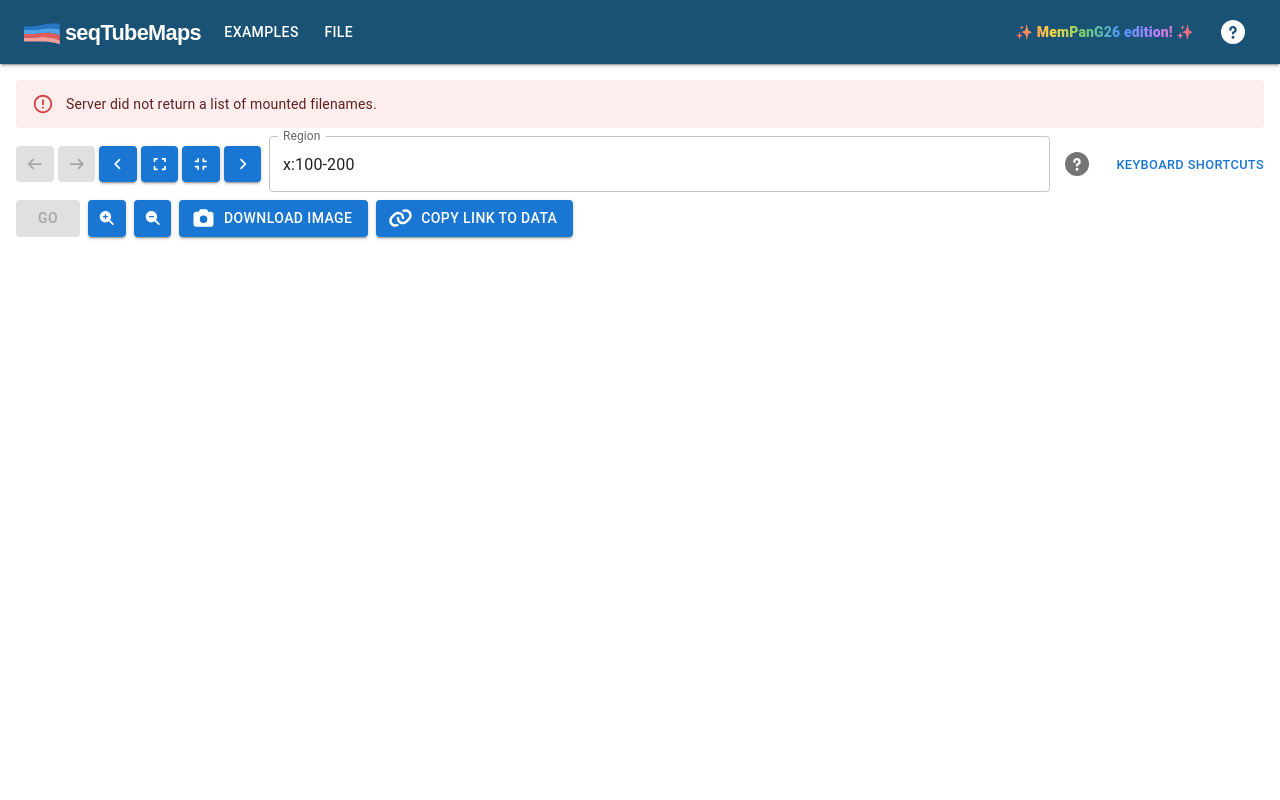
Test: Manage tracks › takes a changed track set as custom files, keeping the region
The image size is (1280, 800).
Expected: the button "Simplify" is not shown
Click the button with test id "fileMenuButton" at (339, 32), box [307,14,371,50]
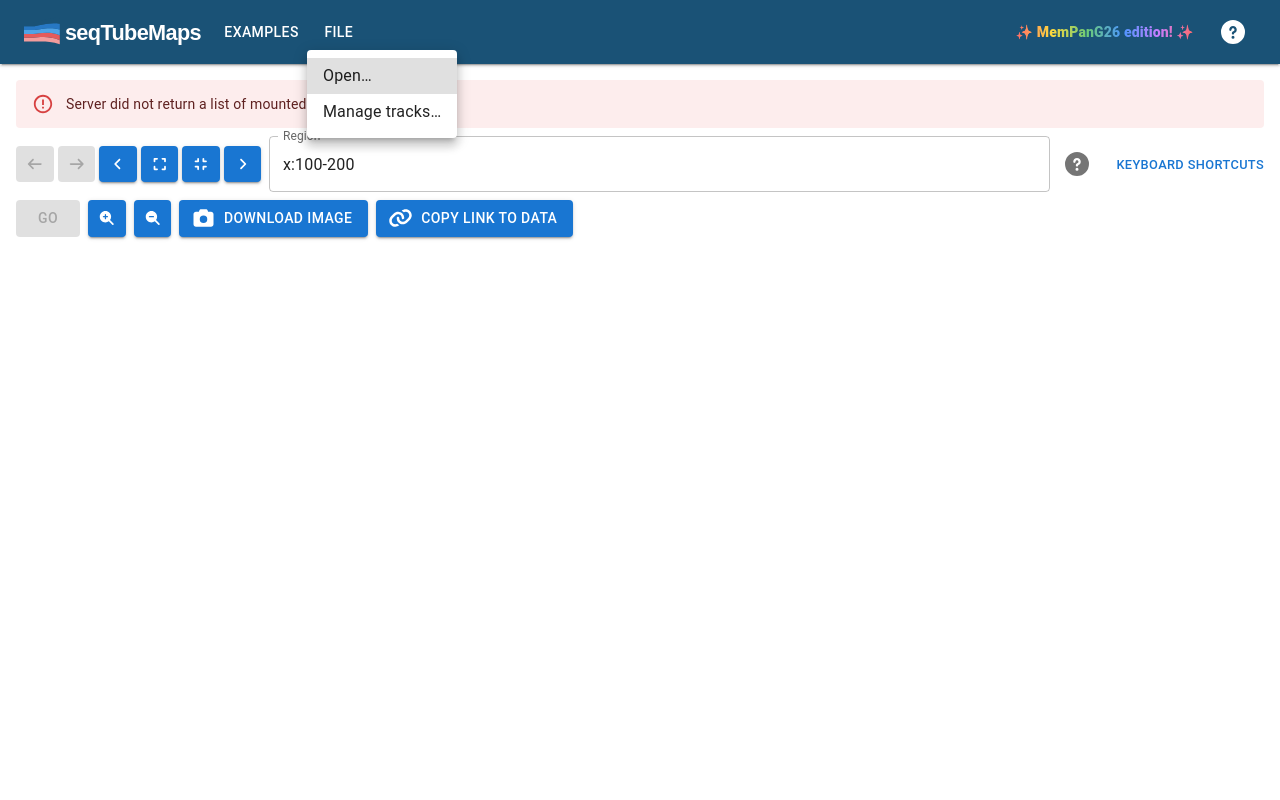
Click the menu item with test id "manageTracks" at (382, 112), box [323,102,441,121]
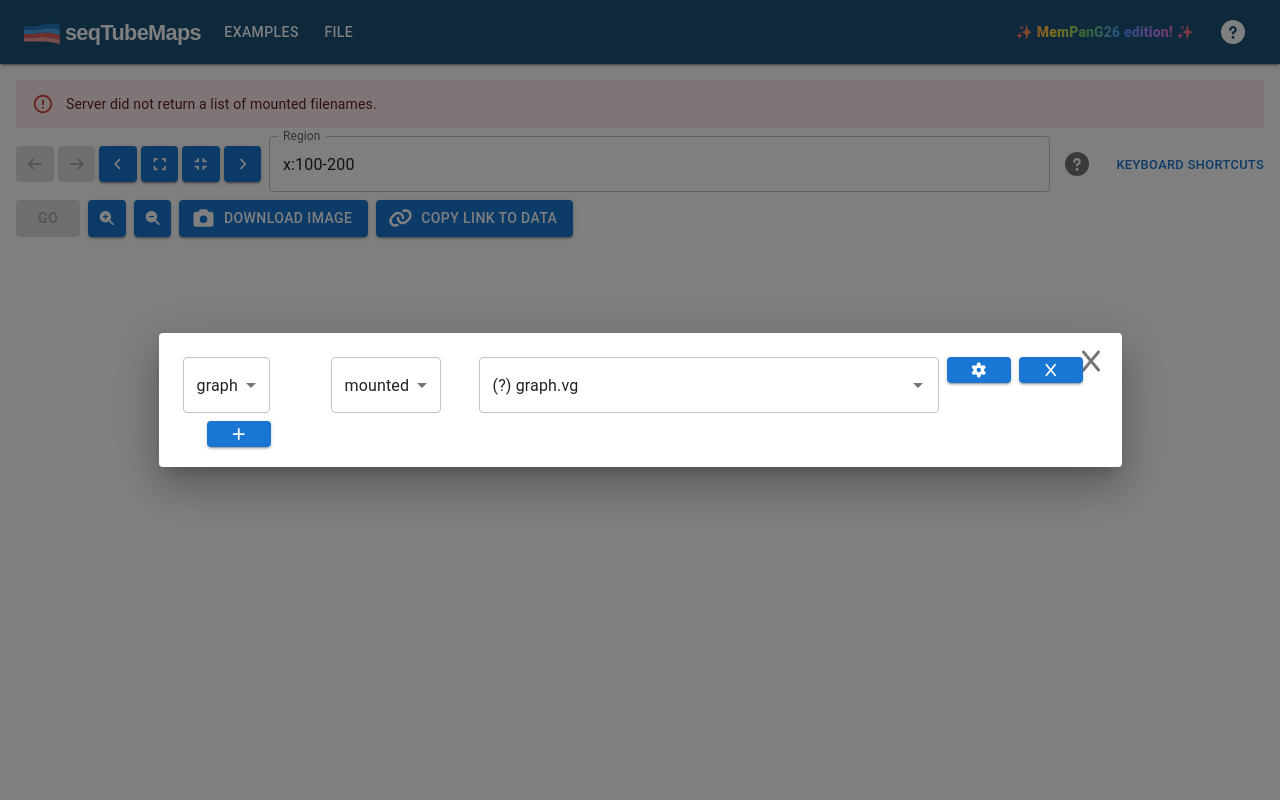
Click the button with test id "delete-button-component0" at (1050, 370), box [1018,357,1082,383]
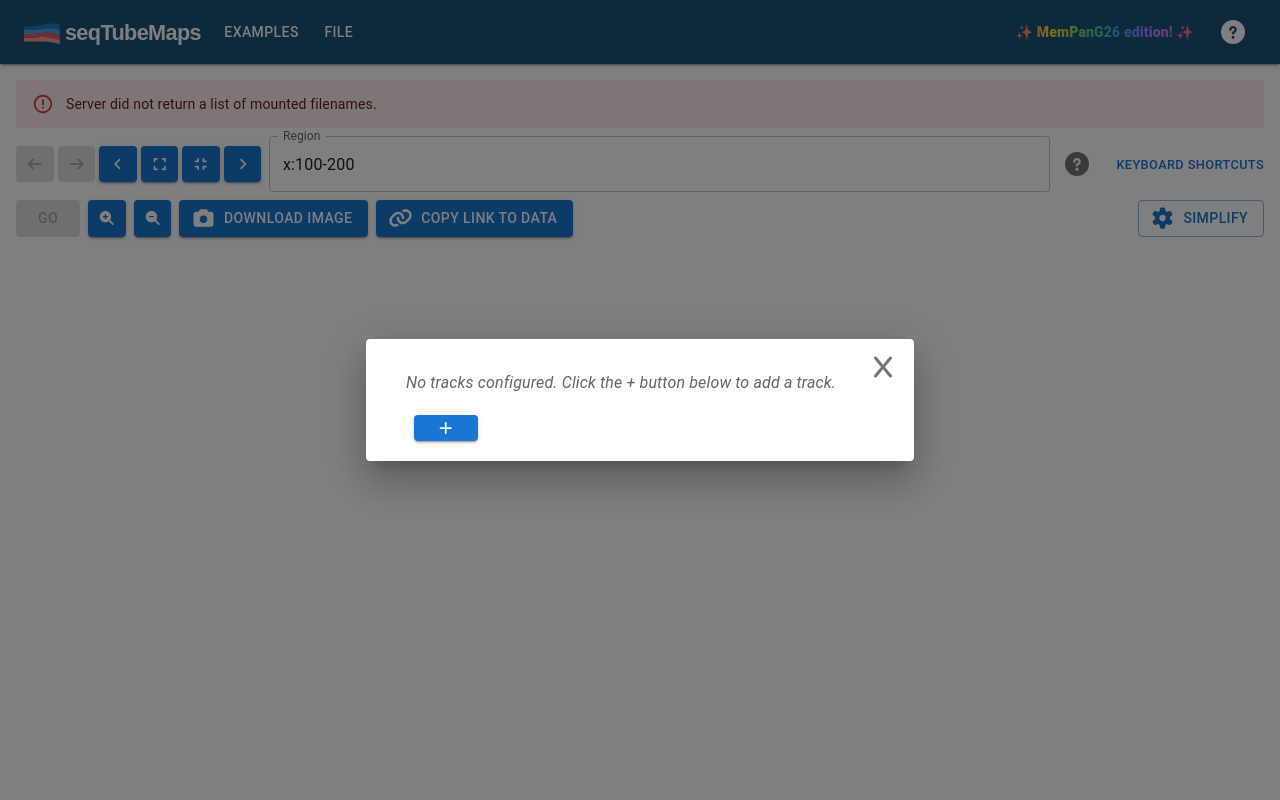
Click the button with test id "TrackPickerCloseButton" at (883, 367), box [860,347,906,387]
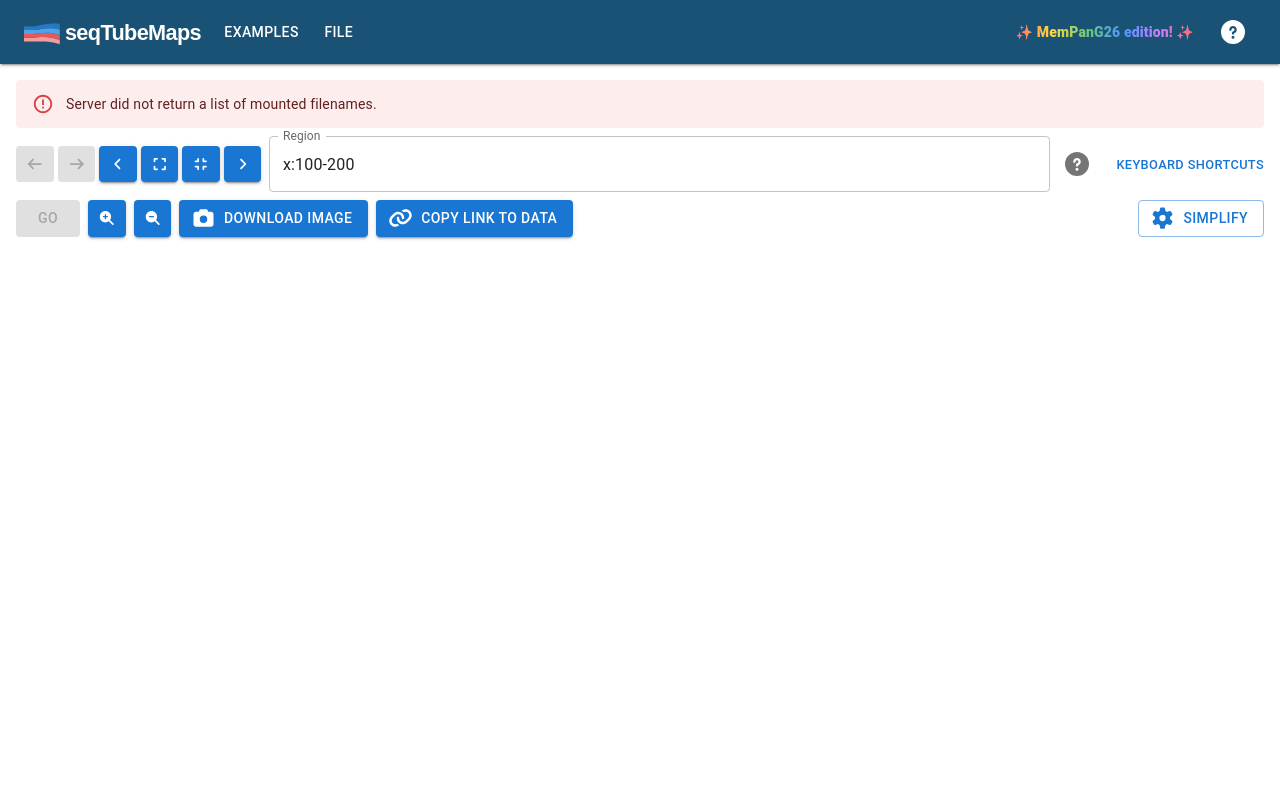
Expected: the dropdown labelled "Region" holds "x:100-200", [278,145,1011,183]
Expected: the button "Simplify" is shown, [1138,200,1264,236]
Expected: the element with test id "TrackPicker" is gone
